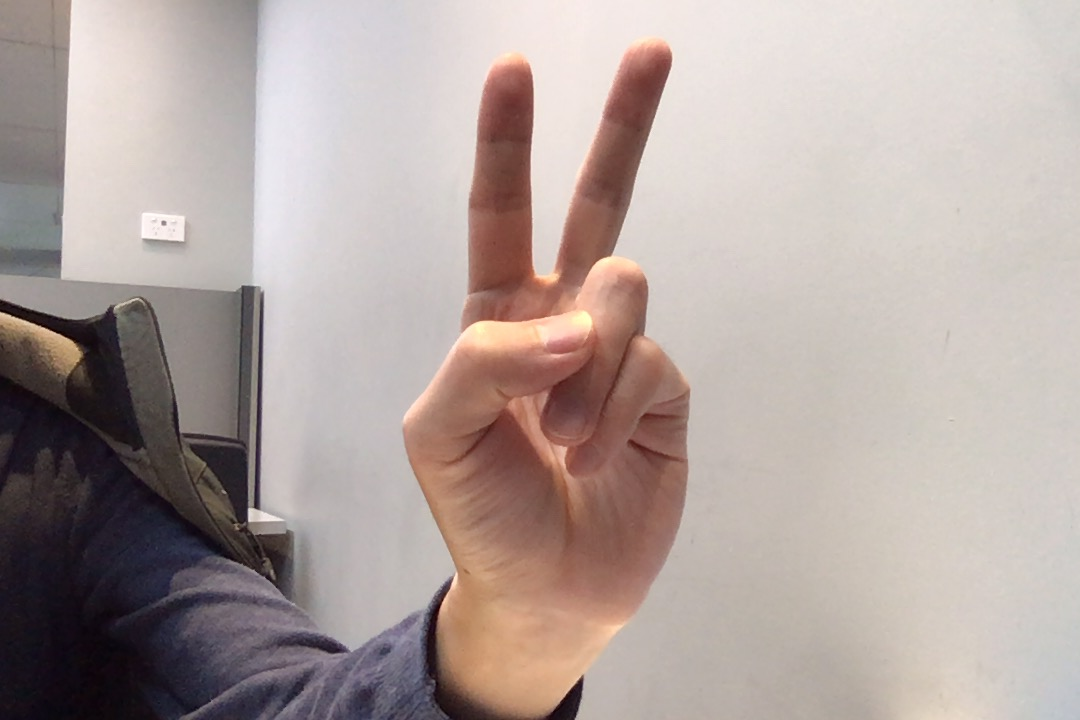peacesign: (390, 32, 714, 638)
